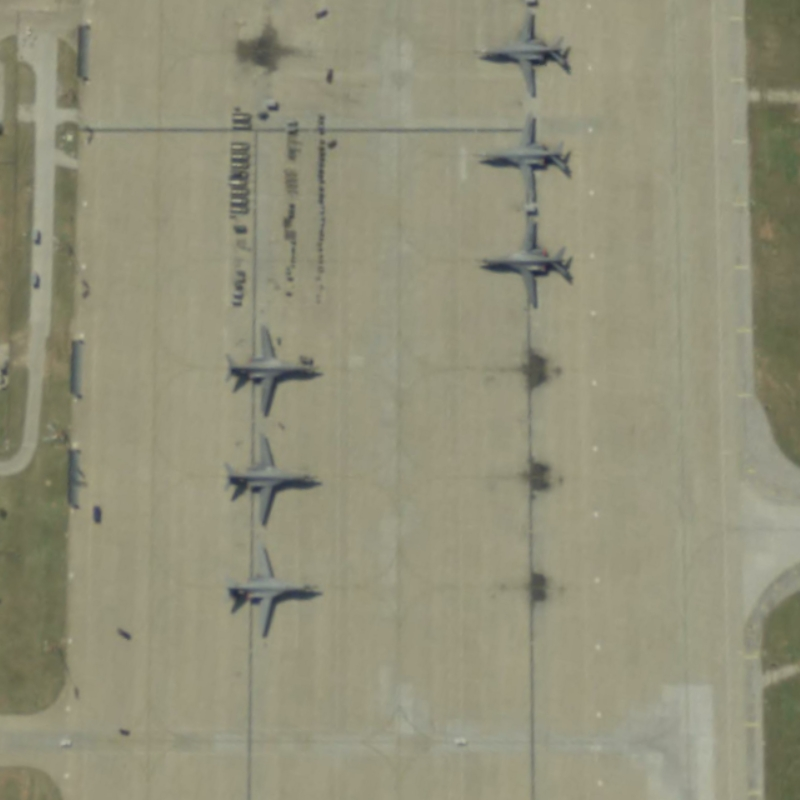A10: (221, 316, 331, 421), (478, 216, 589, 315), (475, 109, 587, 206), (469, 7, 584, 101), (228, 539, 326, 648), (220, 433, 329, 530)
